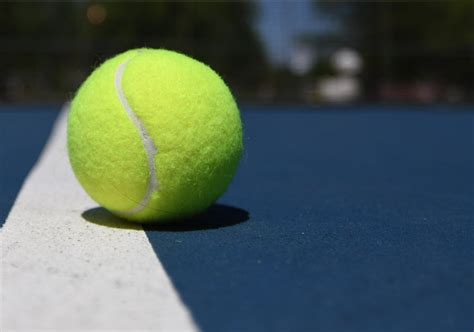tennis_ball: (65, 45, 243, 225)
